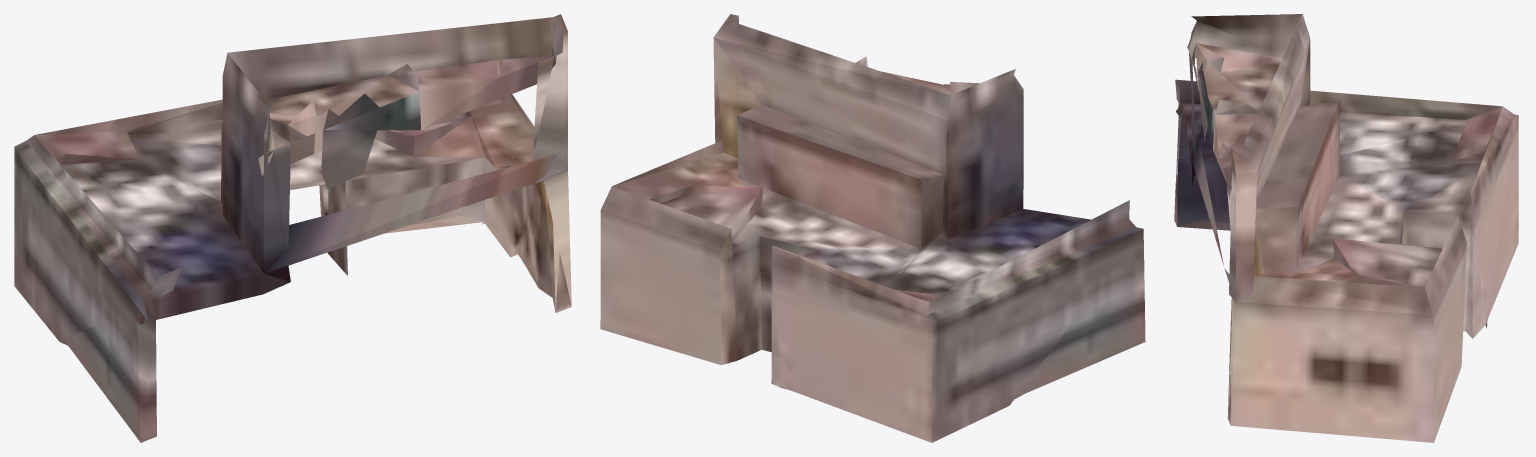
3 renders of one model, left to right at view 1: azimuth 30°, elevation 25°; view 2: azimuth 150°, elevation 25°; view 3: azimuth 270°, elevation 25°, orthographic. The views are drawn at different scales.
Parts seen in each view (by area): view 1: Mesh_0; view 2: Mesh_0; view 3: Mesh_0.
Boxes of the visible parts, x1,y1,x2,y2 form: Mesh_0: (14,14,571,442); Mesh_0: (600,14,1145,442); Mesh_0: (1174,14,1518,442).
Size of the model in its own units: 17.21 by 10.04 by 11.37.
Materials: 1 (1 with a texture image).
